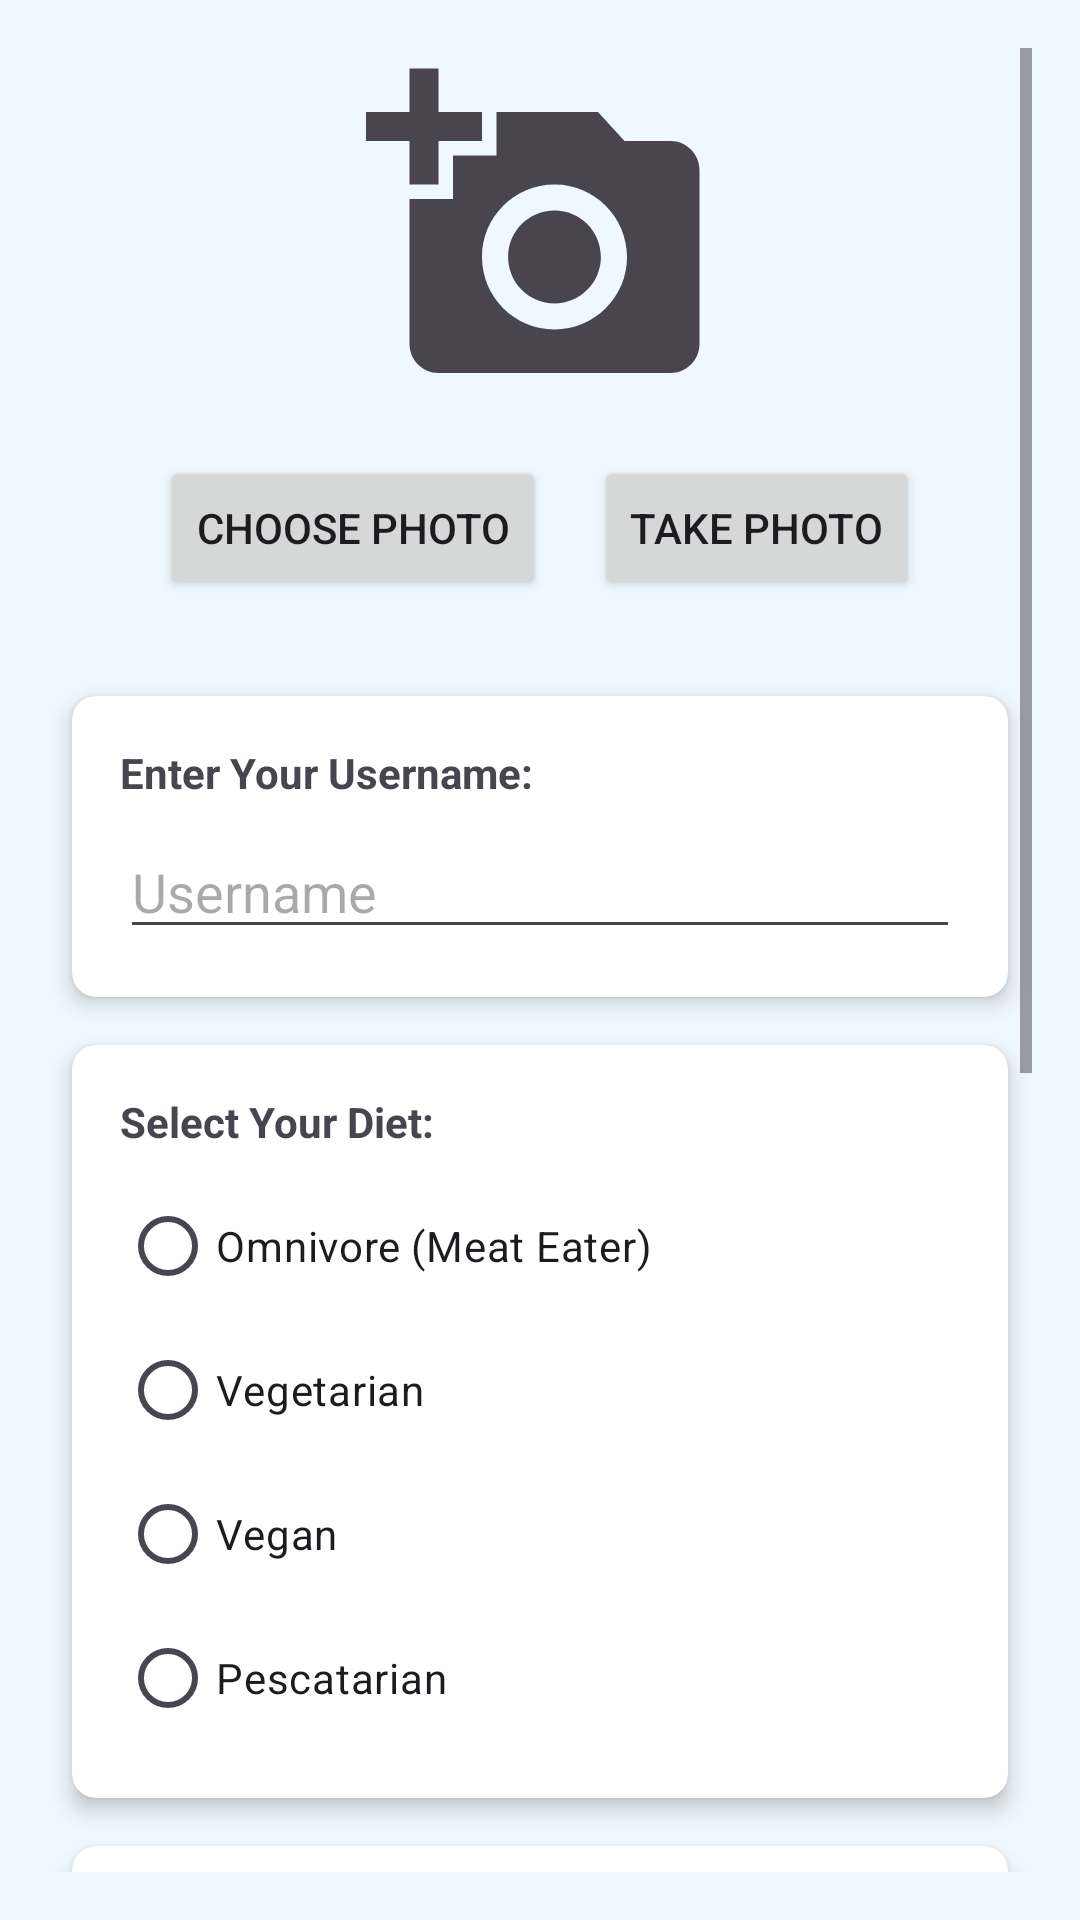

Named icons in this screenshot (1080w x 1920h) and their bounding boxes, Rect(x1, y1, x2, y2):
Profile Picture: Rect(366, 68, 700, 373)
